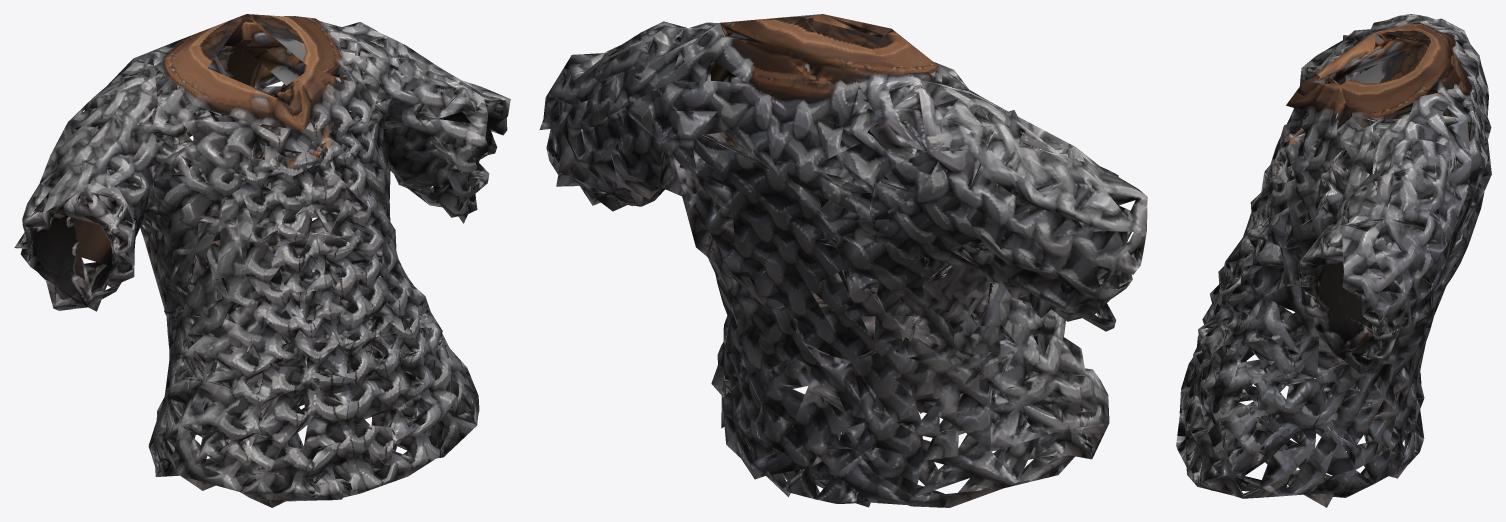
Rendered from Item_ArmorMail.fbx.
3 views of the same model, side by side, from view 1: azimuth 30°, elevation 25°; view 2: azimuth 150°, elevation 25°; view 3: azimuth 270°, elevation 25° (orthographic). The views are drawn at different scales.
Parts seen in each view (by area): view 1: texture_mapping; view 2: texture_mapping; view 3: texture_mapping.
Part boxes in pixels (x1,y1,x2,y2): texture_mapping: (14,14,510,507); texture_mapping: (539,14,1147,507); texture_mapping: (1176,14,1491,507).
Size of the model in its own units: 0.9889 by 0.5325 by 0.7797.
1 material, 1 textured.
